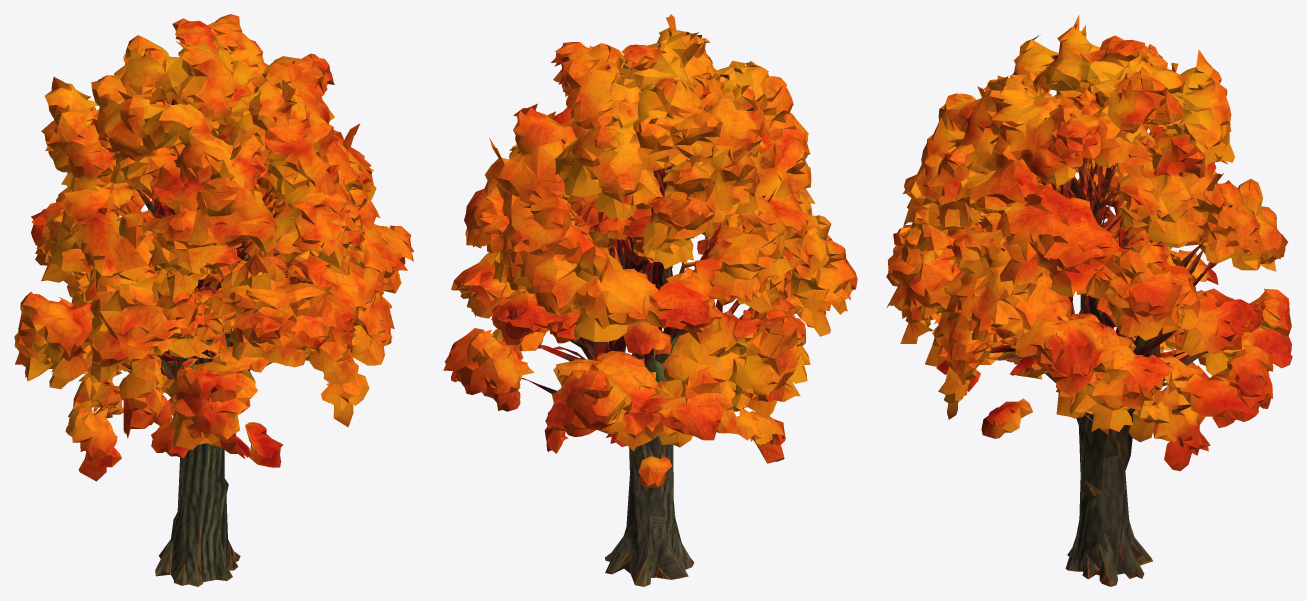
File: tree_autumn_a.glb
3 views of the same model, side by side, from view 1: azimuth 30°, elevation 25°; view 2: azimuth 150°, elevation 25°; view 3: azimuth 270°, elevation 25° (orthographic). The views are drawn at different scales.
Bounding box in the file's own units: 1.25 × 1.87 × 1.29.
Materials: 1 (1 with a texture image).
